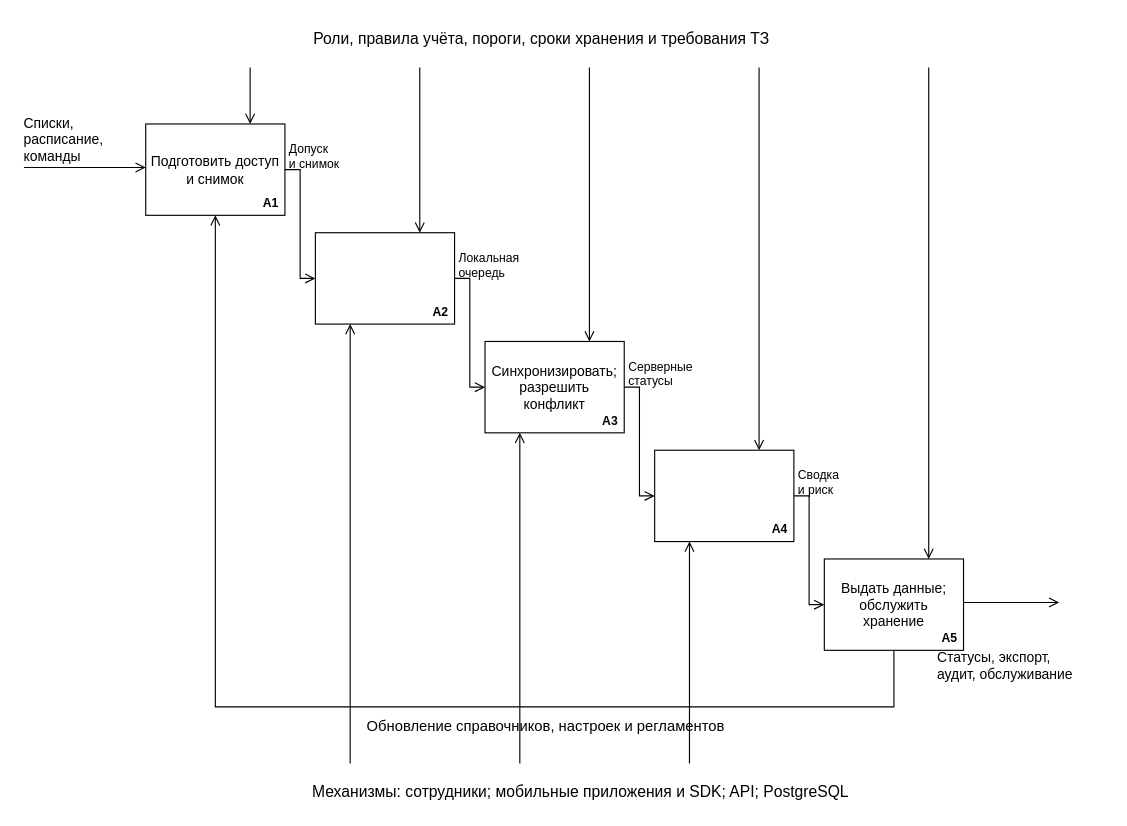
The diagram is 1127 pixels wide and 826 high, and some of its shapes have lost their labels. Here are the shapes that lost their labels. From the top down, the box of each, then its label:
(314, 232, 455, 324): Принять и проверить прямую отметку
(654, 449, 794, 542): Рассчитать показатели и риск
